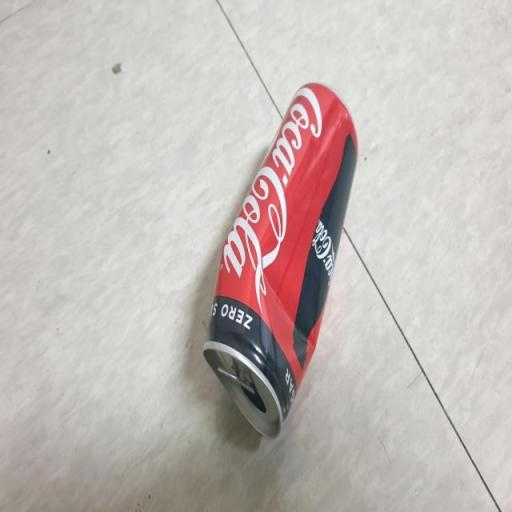metal: (194, 48, 370, 446)
